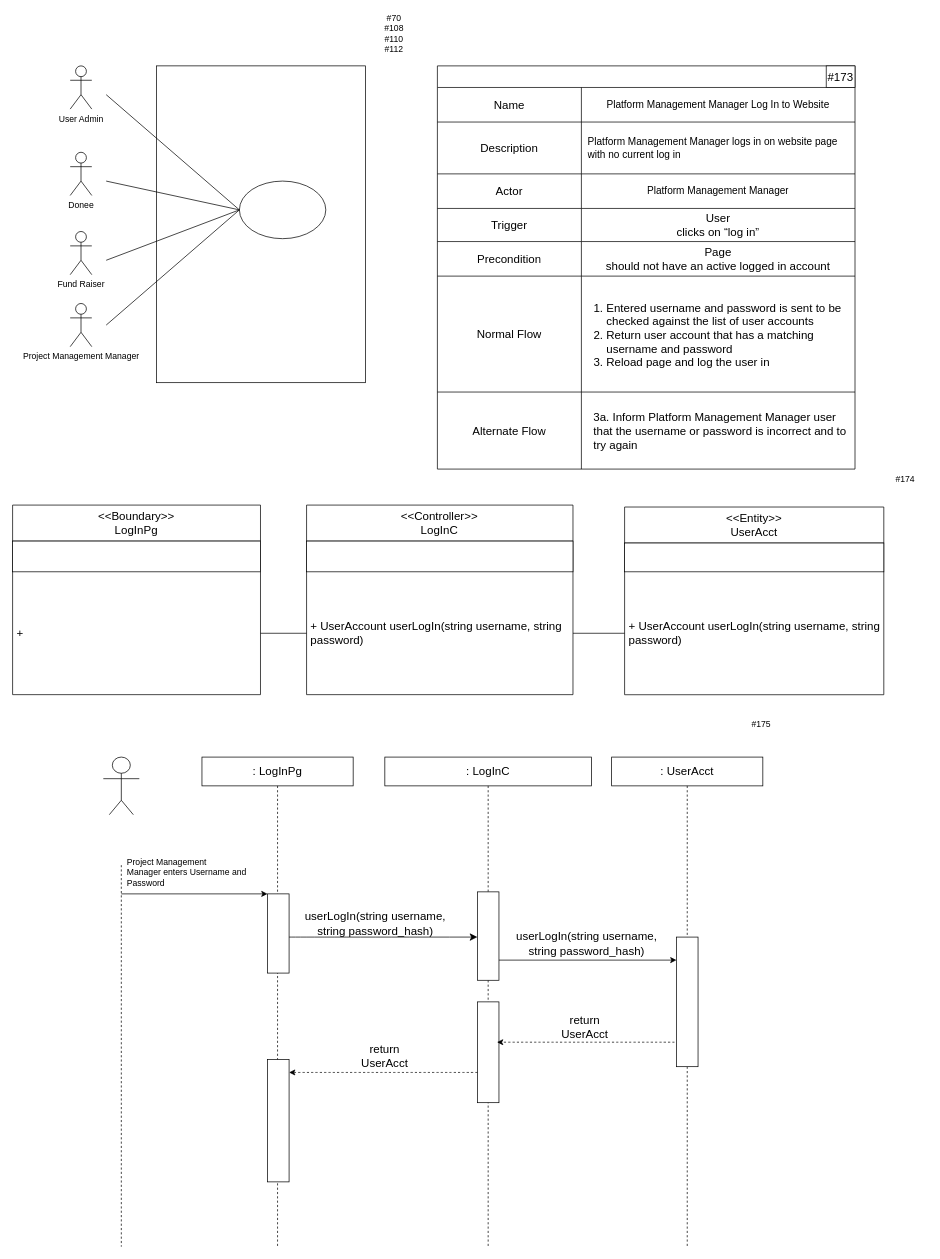
Image size: 940x1259. Some labels were removed from this diagram. Each missing label, with the centre of its shape:
"Log in" goes at [282,209].
"Project Management" goes at [123,839].
